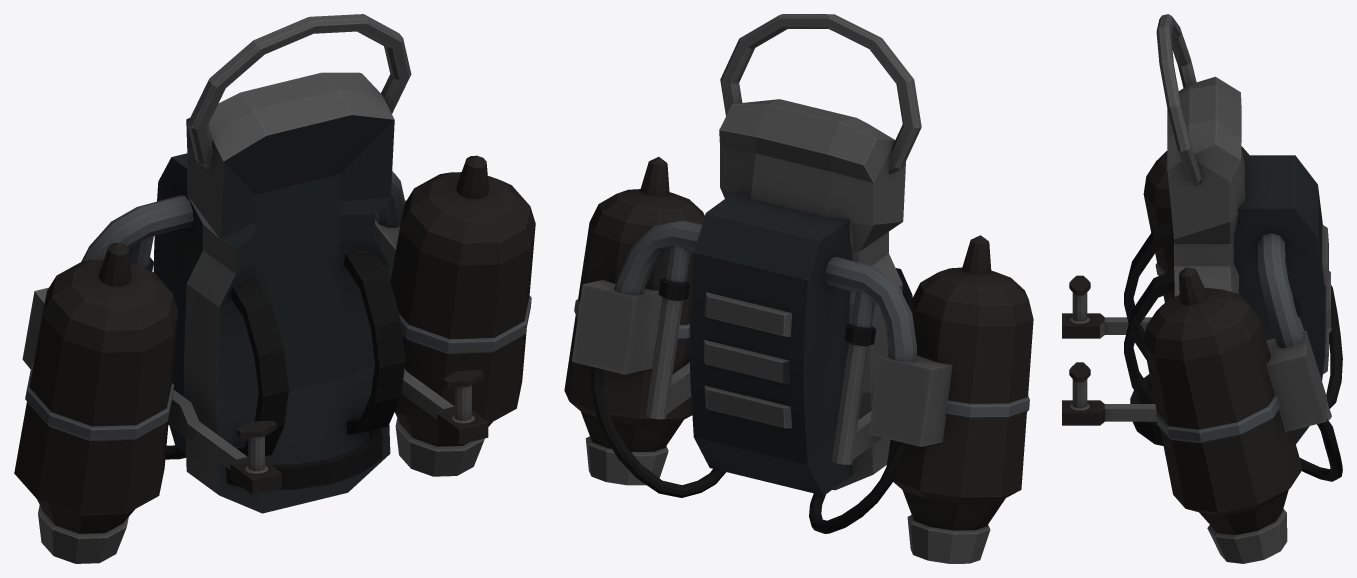
Rendered from Jetpack.obj.
3 views of the same model, side by side, from view 1: azimuth 30°, elevation 25°; view 2: azimuth 150°, elevation 25°; view 3: azimuth 270°, elevation 25° (orthographic). The views are drawn at different scales.
Visible parts, largest first — view 1: Jetpack_mesh; view 2: Jetpack_mesh; view 3: Jetpack_mesh.
Boxes of the visible parts, x1,y1,x2,y2 form: Jetpack_mesh: (14, 14, 535, 563); Jetpack_mesh: (564, 14, 1033, 563); Jetpack_mesh: (1062, 14, 1342, 563).
Bounding box in the file's own units: 12.42 × 12.89 × 7.24.
1 material, 1 textured.
